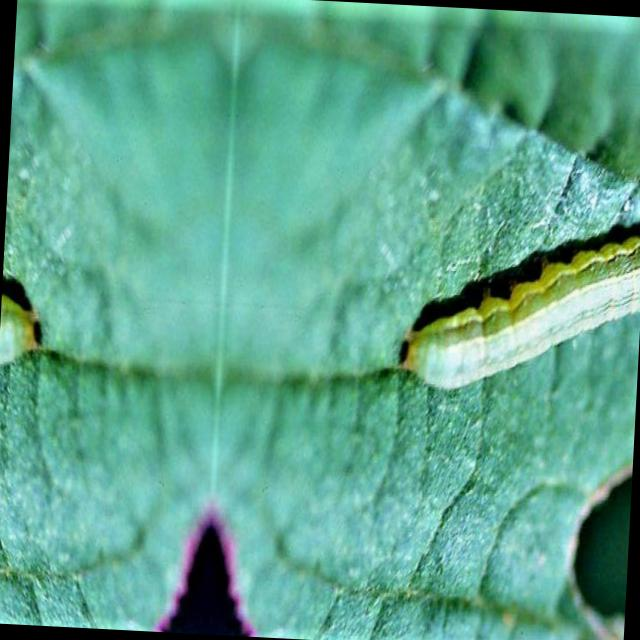Armyworm: (393, 219, 640, 451), (1, 253, 60, 401)
